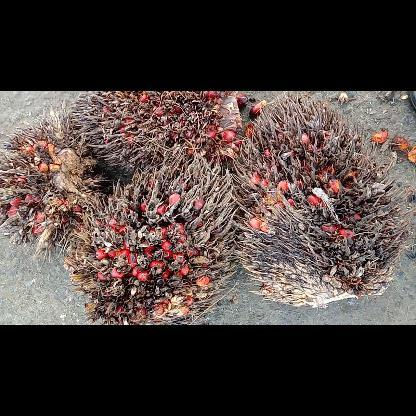Terlalu masak: (229, 95, 415, 309), (58, 155, 244, 324), (0, 104, 117, 273), (70, 90, 245, 176)
